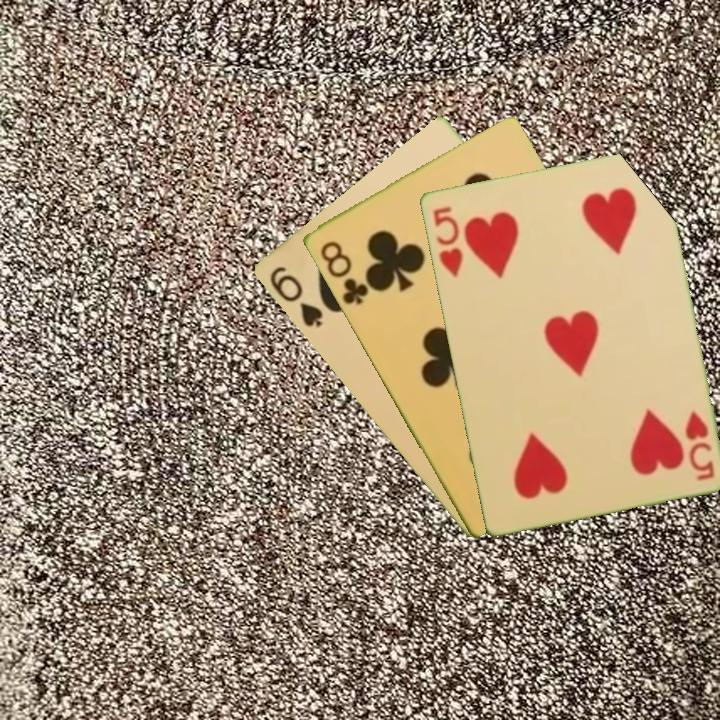5h: (429, 202, 465, 281), (681, 407, 717, 483)
6s: (265, 262, 326, 331)
8c: (316, 237, 371, 308)
